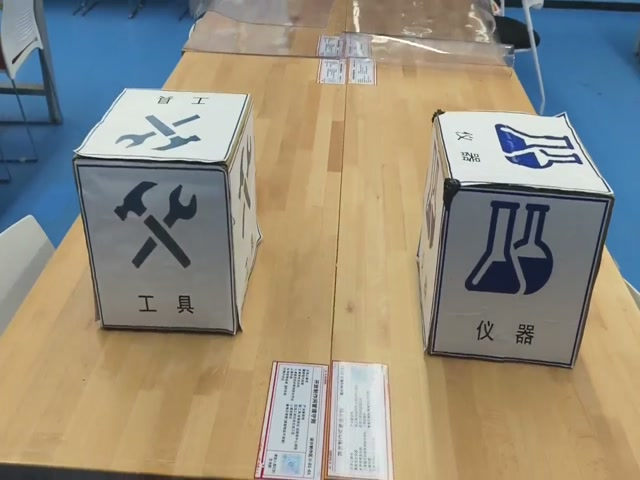Cube_ins: (433, 112, 613, 199)
Cube_tool: (73, 89, 251, 168)
